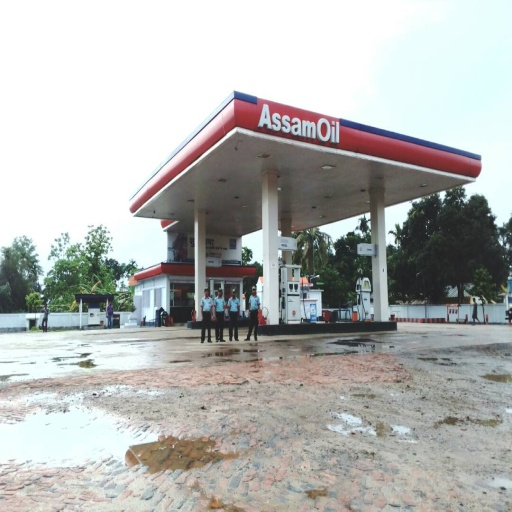roof: (130, 93, 482, 230)
